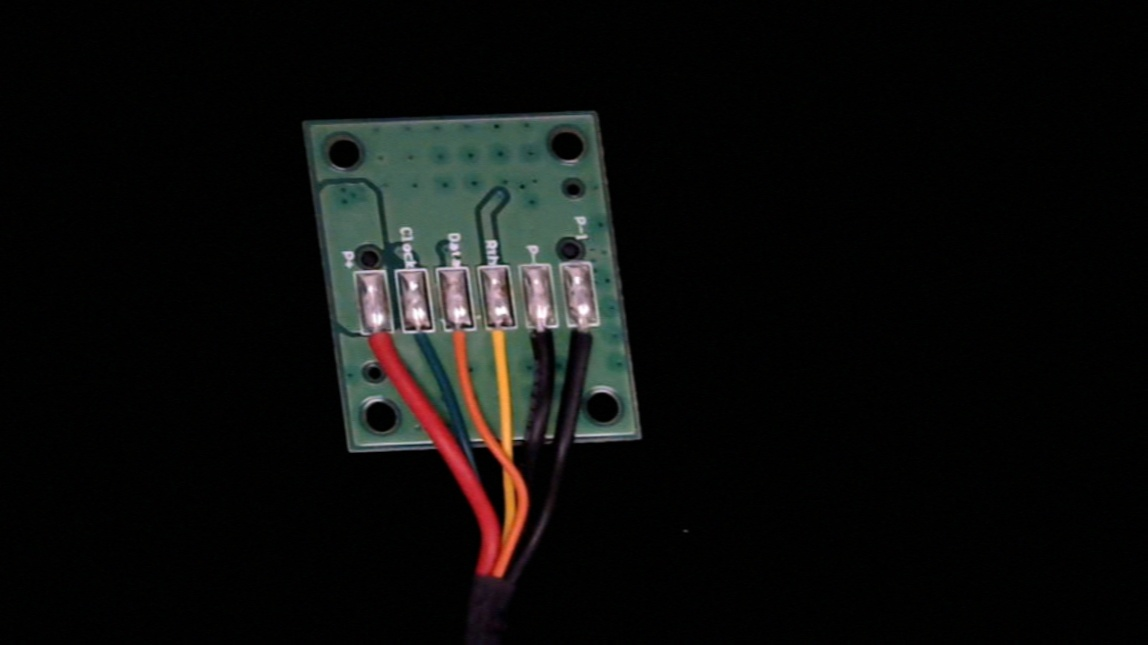Black: (526, 311, 562, 376)
Black1: (568, 310, 605, 370)
Green: (401, 314, 438, 379)
Orange: (442, 313, 477, 376)
Red: (360, 316, 404, 386)
Yellow: (484, 312, 523, 375)
